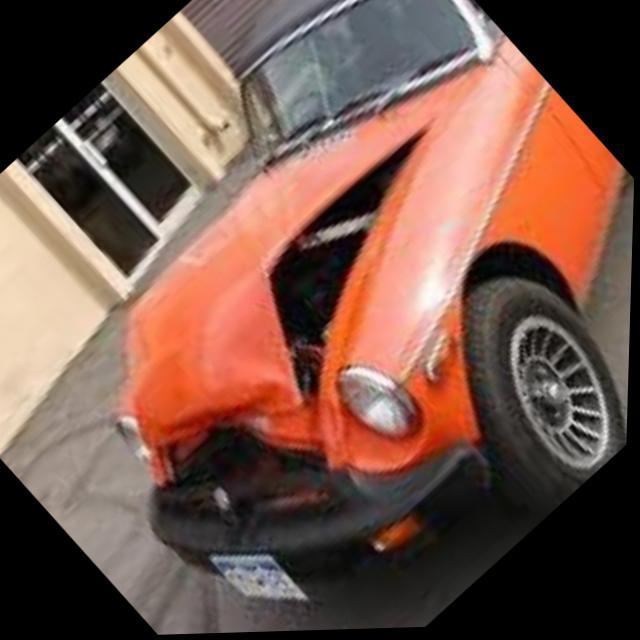dislocated part: (121, 112, 438, 515)
